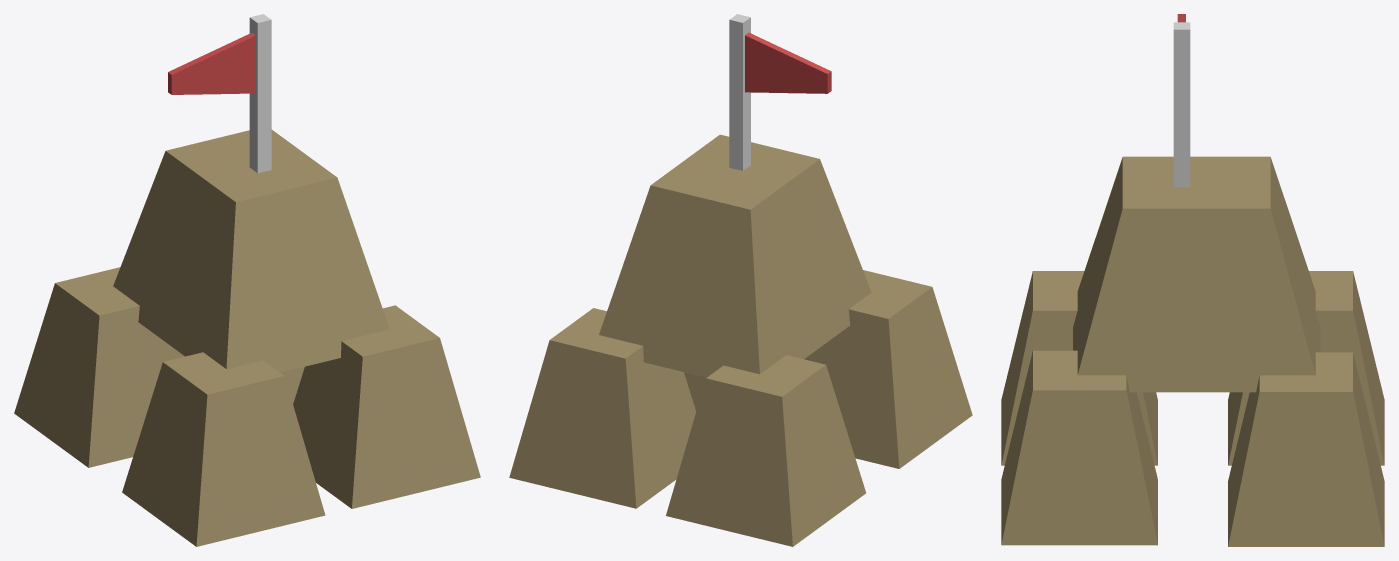
File: sandburg.fbx
The picture shows the model from 3 angles, left to right: view 1: azimuth 30°, elevation 25°; view 2: azimuth 150°, elevation 25°; view 3: azimuth 270°, elevation 25°; orthographic projection. The views are drawn at different scales.
Parts seen in each view (by area): view 1: Cube179; view 2: Cube179; view 3: Cube179.
Part boxes in pixels (bbox=[...]): Cube179: bbox=[14, 14, 480, 546]; Cube179: bbox=[509, 14, 972, 546]; Cube179: bbox=[1001, 14, 1384, 546].
Size of the model in its own units: 446 by 635 by 490.
